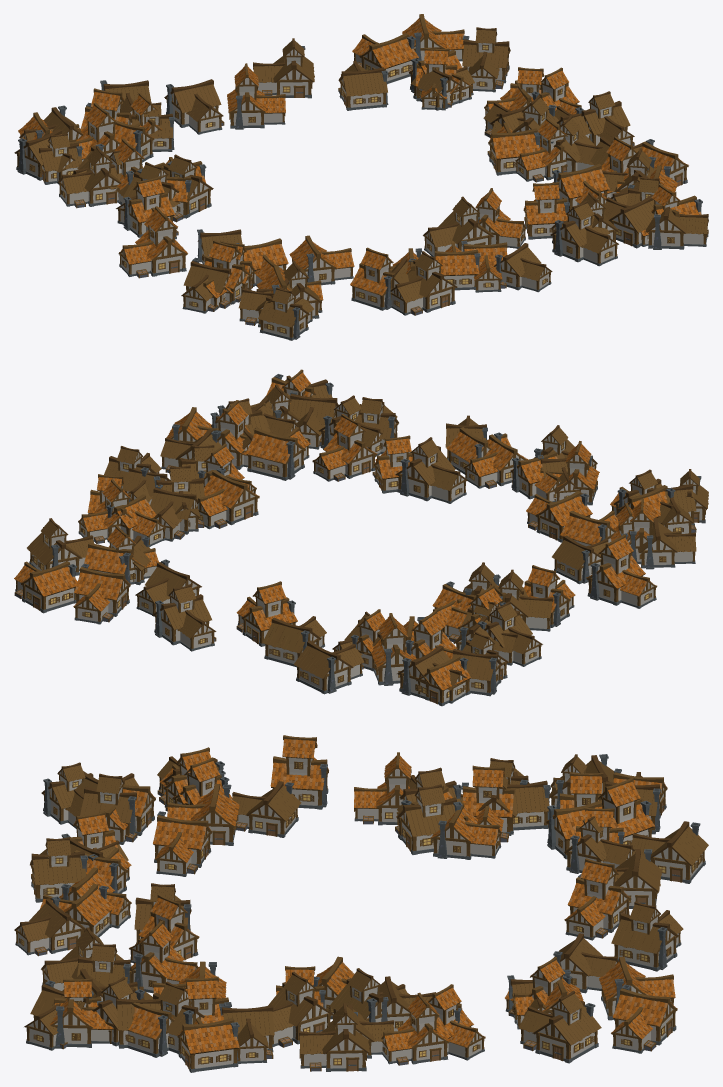
Rendered from houses.fbx.
The picture shows the model from 3 angles, top to bottom: view 1: azimuth 30°, elevation 25°; view 2: azimuth 150°, elevation 25°; view 3: azimuth 270°, elevation 25°; orthographic projection. The views are drawn at different scales.
Visible parts, largest first — view 1: House_05.011, House_06.014, House_06.010, House_05.016, House_06.019, House_06.008, House_06.016, House_04.006, House_06.003, House_03.003, House_04.013, House_06.011 (+52 smaller); view 2: House_05.011, House_06.003, House_06.019, House_05.006, House_04.015, House_03.017, House_03.003, House_03.015, House_03.006, House_05.016, House_06.016, House_04.006 (+53 smaller); view 3: House_06.016, House_05.016, House_06.019, House_03.006, House_06.020, House_05.011, House_05.019, House_03.020, House_06.006, House_04.015, House_03.001, House_06.004 (+55 smaller).
Boxes of the visible parts, x1,y1,x2,y2 form: House_05.011: (118, 206, 187, 278); House_06.014: (550, 200, 618, 266); House_06.010: (390, 251, 457, 315); House_05.016: (227, 63, 285, 129); House_06.019: (253, 38, 314, 98); House_06.008: (58, 146, 121, 208); House_06.016: (462, 27, 510, 92); House_04.006: (164, 79, 224, 134); House_06.003: (423, 196, 494, 257); House_03.003: (352, 33, 418, 83); House_04.013: (645, 206, 708, 249); House_06.011: (258, 287, 313, 340); House_05.011: (586, 534, 657, 608); House_06.003: (395, 437, 467, 503); House_06.019: (152, 584, 216, 651); House_05.006: (312, 414, 377, 481); House_04.015: (293, 640, 364, 694); House_03.017: (246, 427, 310, 480); House_03.003: (73, 563, 130, 624); House_03.015: (197, 468, 259, 529); House_03.006: (14, 561, 77, 613); House_05.016: (236, 581, 297, 646); House_06.016: (27, 518, 94, 575); House_04.006: (262, 616, 326, 667); House_06.016: (519, 990, 601, 1063); House_05.016: (564, 858, 631, 940); House_06.019: (611, 901, 683, 971); House_03.006: (611, 984, 677, 1053); House_06.020: (298, 1003, 369, 1071); House_05.011: (270, 735, 328, 809); House_05.019: (381, 992, 449, 1065); House_03.020: (153, 811, 211, 876); House_06.006: (268, 971, 333, 1047); House_04.015: (631, 821, 708, 883); House_03.001: (177, 1017, 239, 1072); House_06.004: (395, 784, 462, 854).
Size of the model in its own units: 6704 by 675 by 6660.
